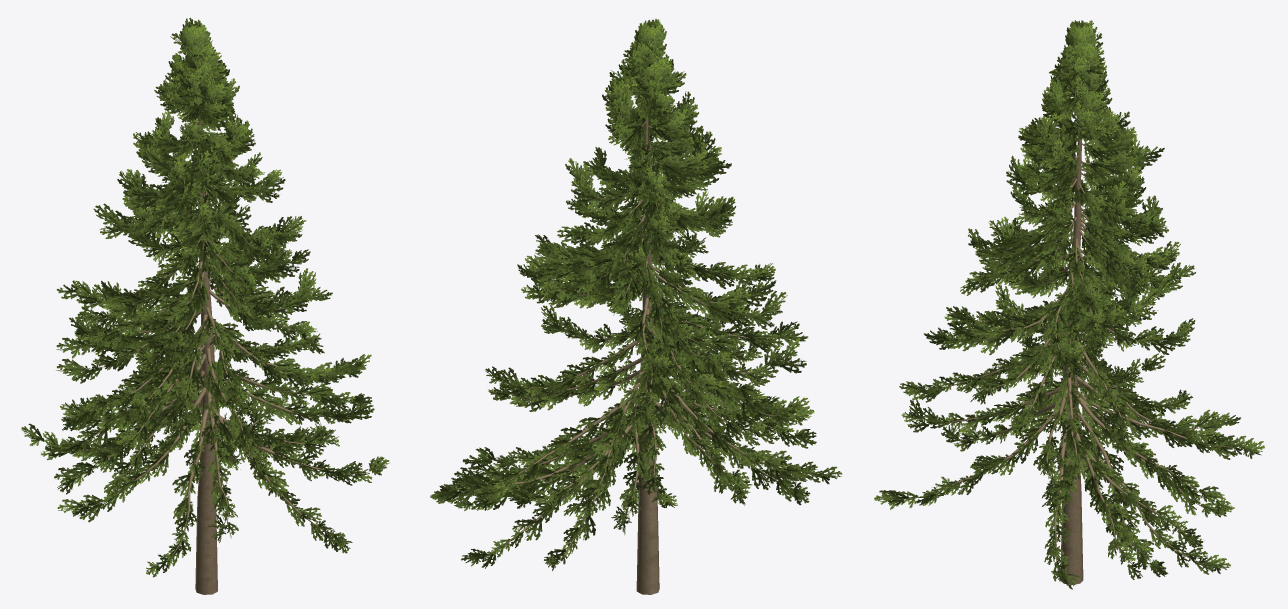
The model's file is pine_large_02.glb.
3 views of the same model, side by side, from view 1: azimuth 30°, elevation 25°; view 2: azimuth 150°, elevation 25°; view 3: azimuth 270°, elevation 25° (orthographic). The views are drawn at different scales.
Visible parts, largest first — view 1: Tree; view 2: Tree; view 3: Tree.
Boxes of the visible parts, x1,y1,x2,y2 form: Tree: (21,17,389,594); Tree: (430,18,842,594); Tree: (874,20,1264,589).
Bounding box in the file's own units: 43.28 × 68.3 × 44.42.
2 materials, 2 textured.
